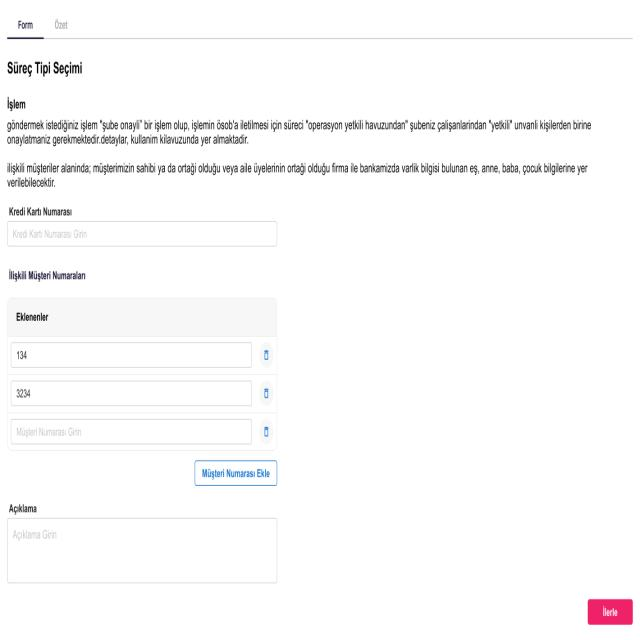QLabel: (5, 160, 589, 190), (5, 118, 592, 146), (6, 60, 84, 77), (8, 268, 86, 282), (202, 467, 270, 481), (8, 206, 72, 217), (8, 503, 37, 515), (6, 95, 26, 111), (15, 19, 34, 31), (602, 606, 618, 618), (54, 19, 68, 31)
VBtn: (194, 458, 278, 488), (587, 598, 634, 626)
VDataTable: (6, 296, 278, 452)
VTab: (6, 9, 48, 41), (52, 9, 81, 41)
VTabs: (3, 5, 638, 45)
VTextField: (7, 220, 278, 248)
VTextarea: (6, 517, 278, 586)
